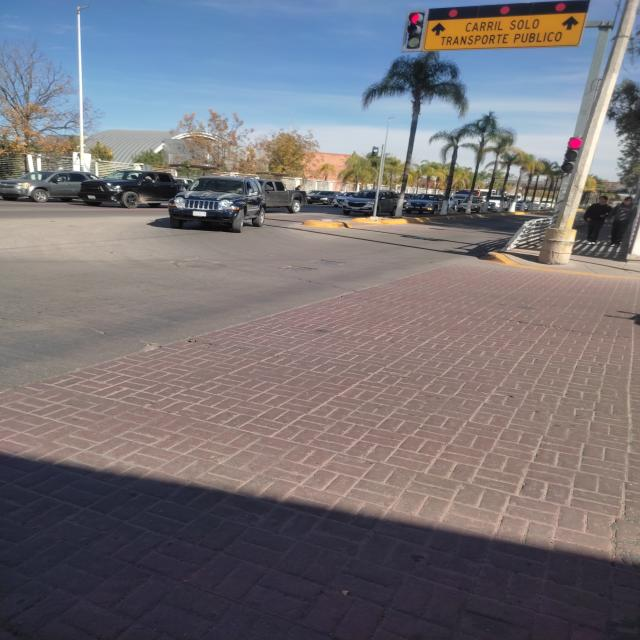3: (576, 193, 611, 242), (609, 194, 640, 240)
Auto: (168, 157, 269, 241), (82, 162, 191, 214), (2, 152, 100, 209), (253, 172, 310, 212), (341, 181, 398, 217), (408, 187, 445, 220), (478, 192, 510, 214), (312, 184, 338, 208), (454, 195, 484, 212)
